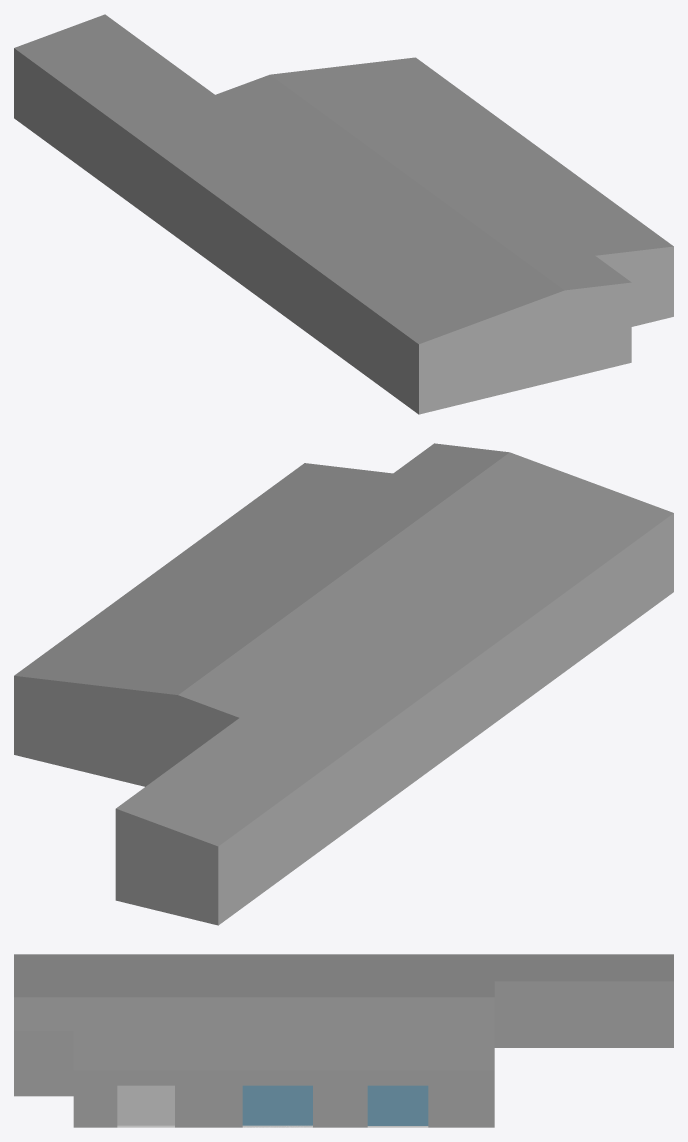
File: vismijn3_no_camera.fbx
3 renders of one model, top to bottom at view 1: azimuth 30°, elevation 25°; view 2: azimuth 150°, elevation 25°; view 3: azimuth 270°, elevation 25°, orthographic. The views are drawn at different scales.
Visible parts, largest first — view 1: Cube; view 2: Cube; view 3: Cube.
Boxes of the visible parts, x1,y1,x2,y2 form: Cube: [14, 14, 673, 414]; Cube: [14, 443, 673, 925]; Cube: [14, 954, 673, 1127].
Bounding box in the file's own units: 869 × 252 × 2089.
